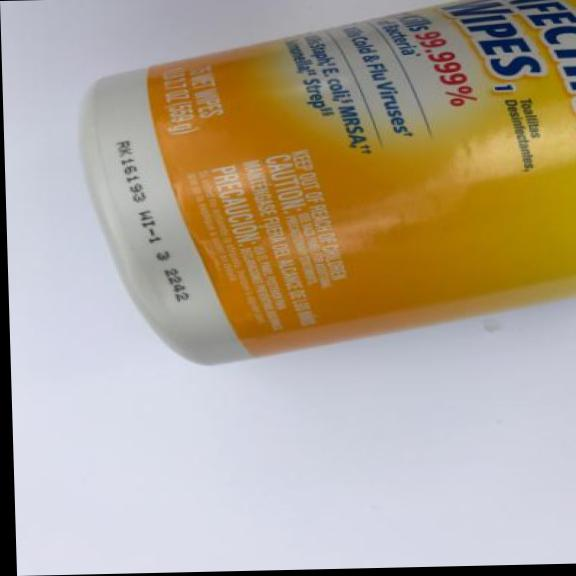Plastik: (60, 0, 576, 373)
